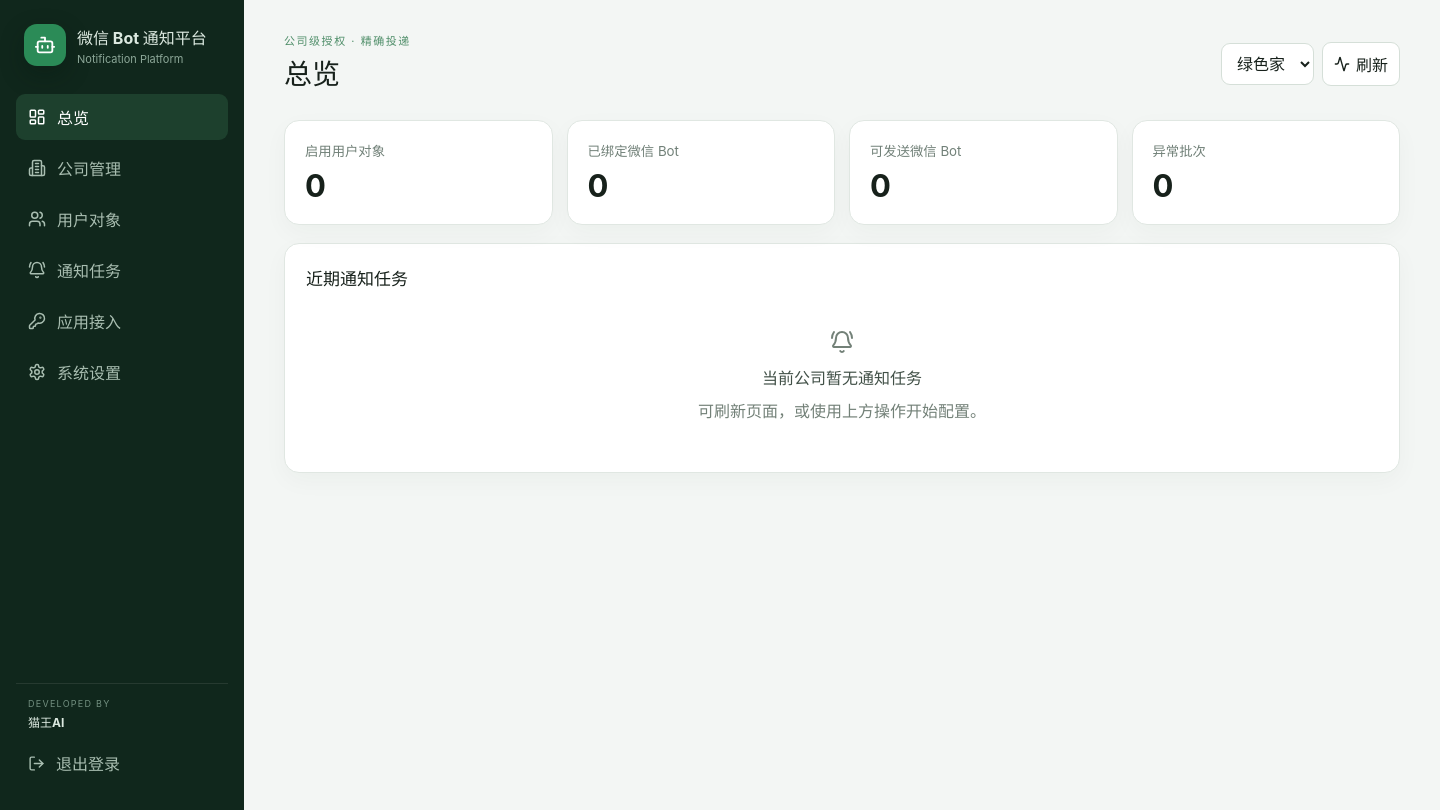
GeneralPlatformApp temporary workflow safety › keeps company-create success explicit when loading the new tenant fails
Click the button "公司管理". click: coordinates (122, 168)
box: [16,145,228,191]
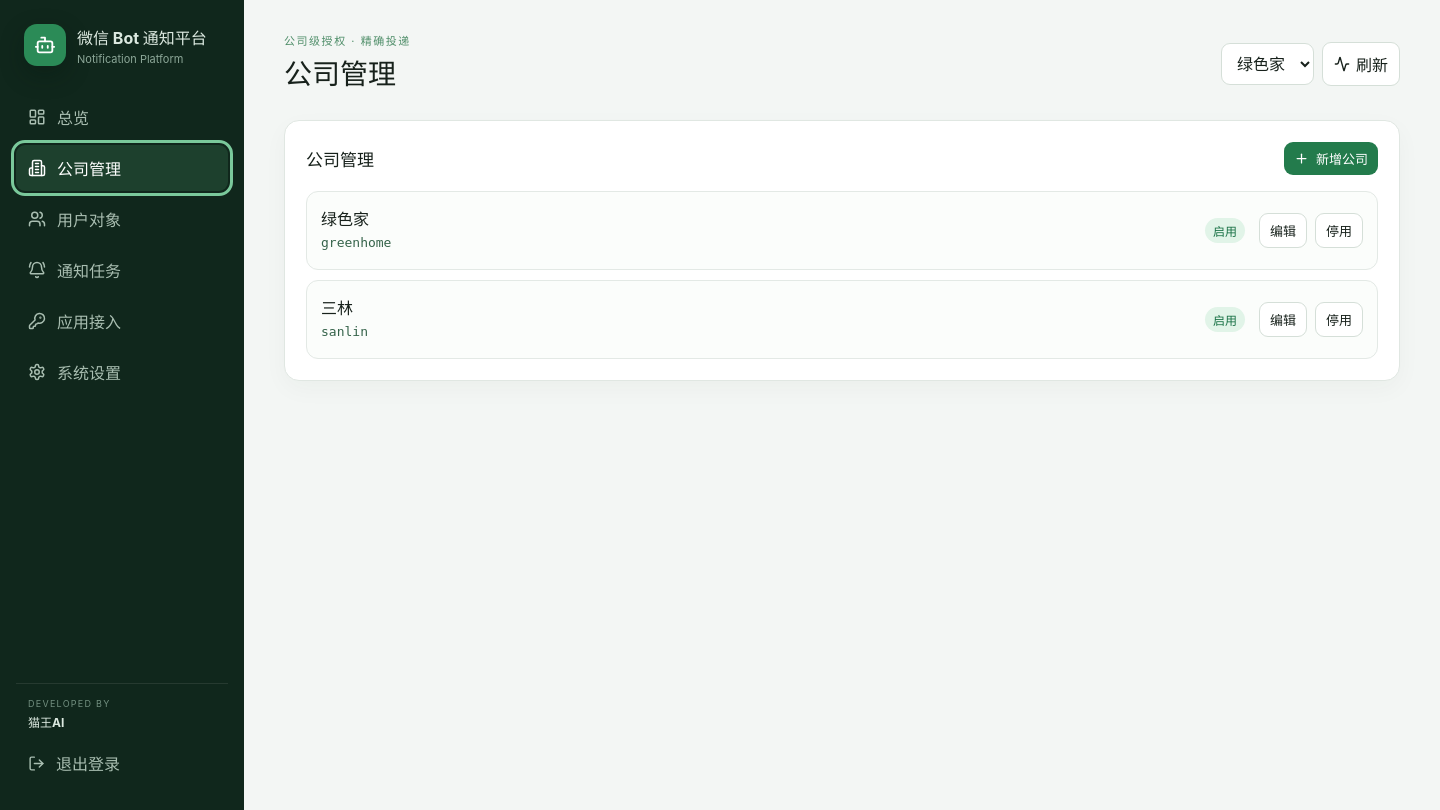
Click the button "新增公司". click: coordinates (1331, 158)
box: [1284,142,1378,175]
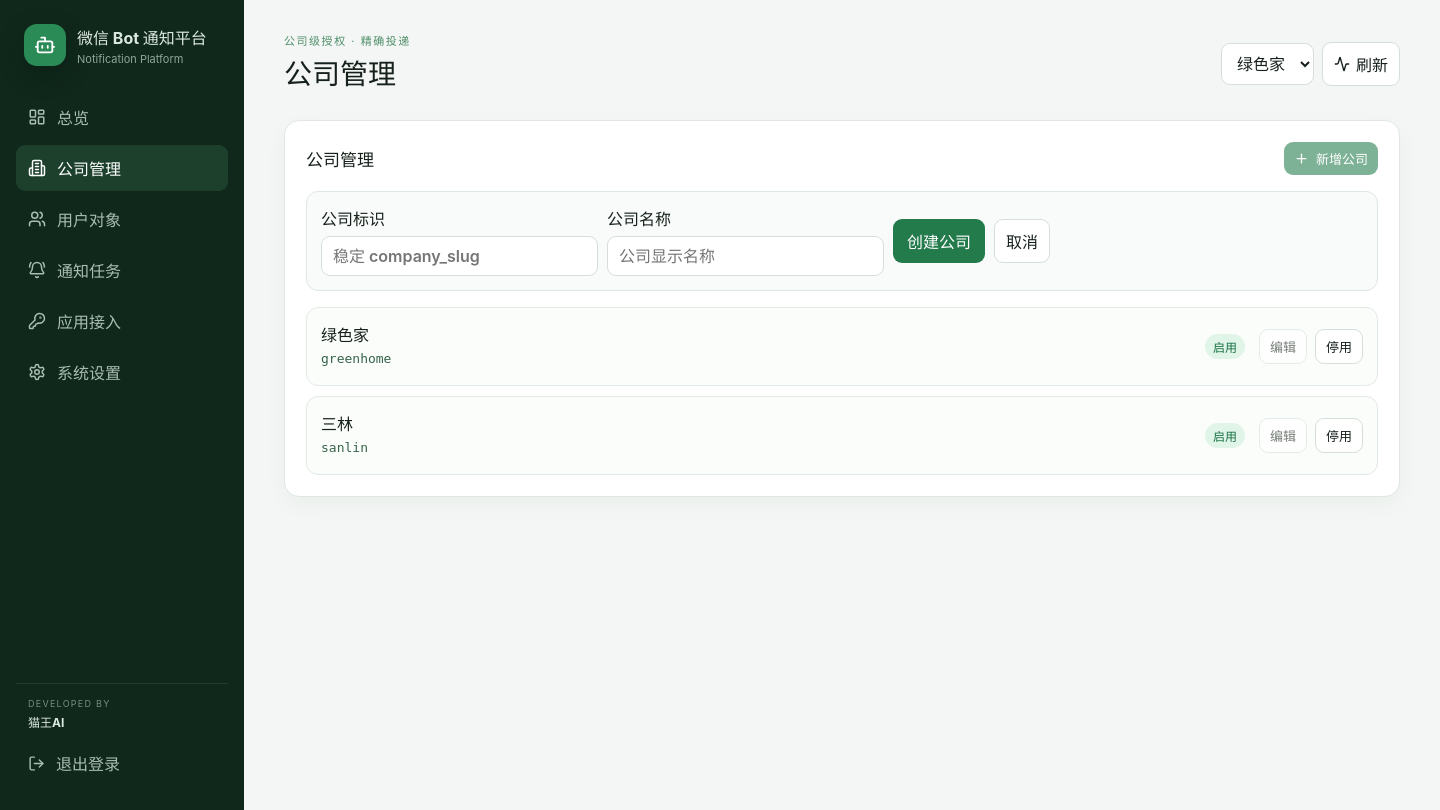
Type "refresh-fail-company" into the field labelled "公司标识". click: coordinates (460, 256)
box: [321,236,598,276]
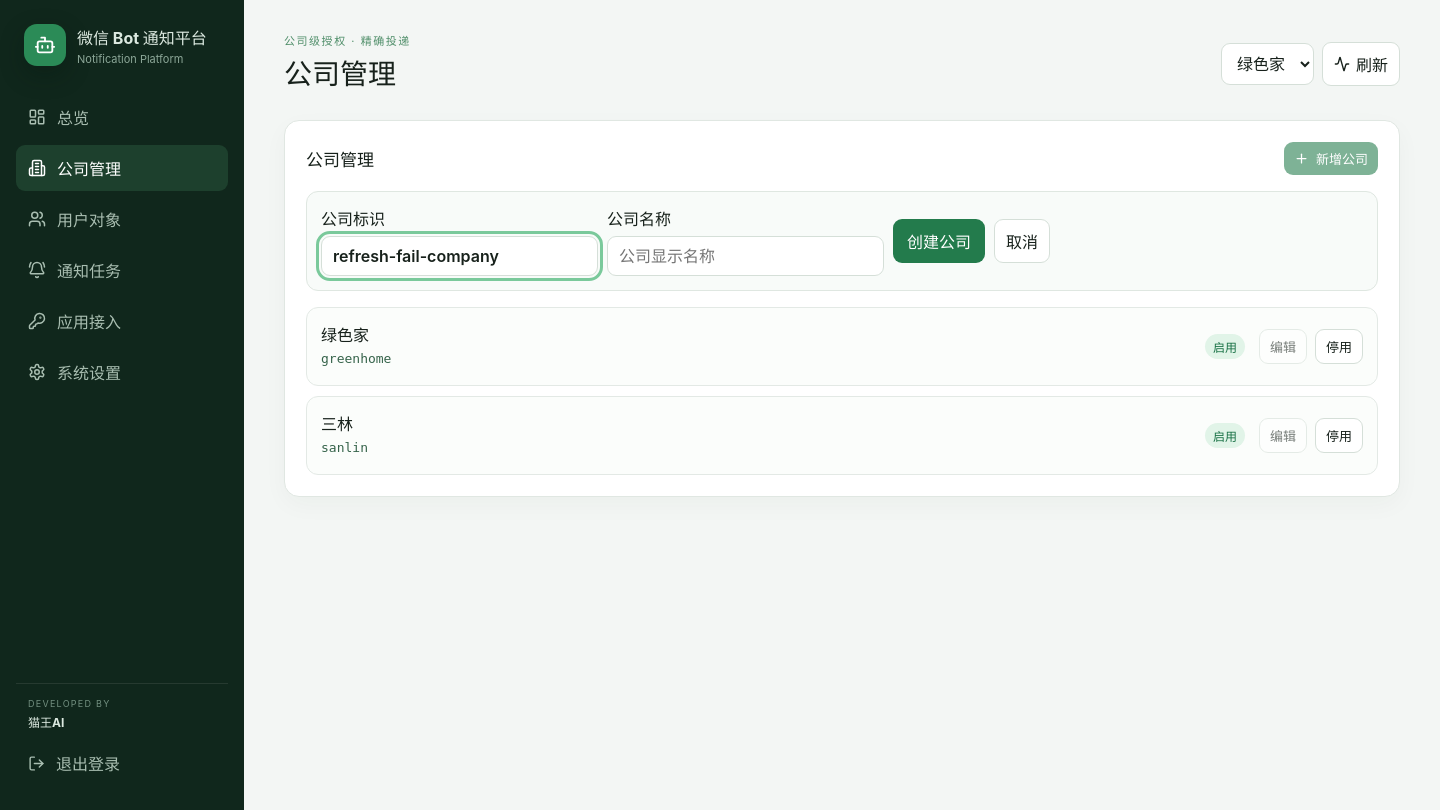
Type "已创建公司" into the field labelled "公司名称". click: coordinates (746, 256)
box: [607,236,884,276]
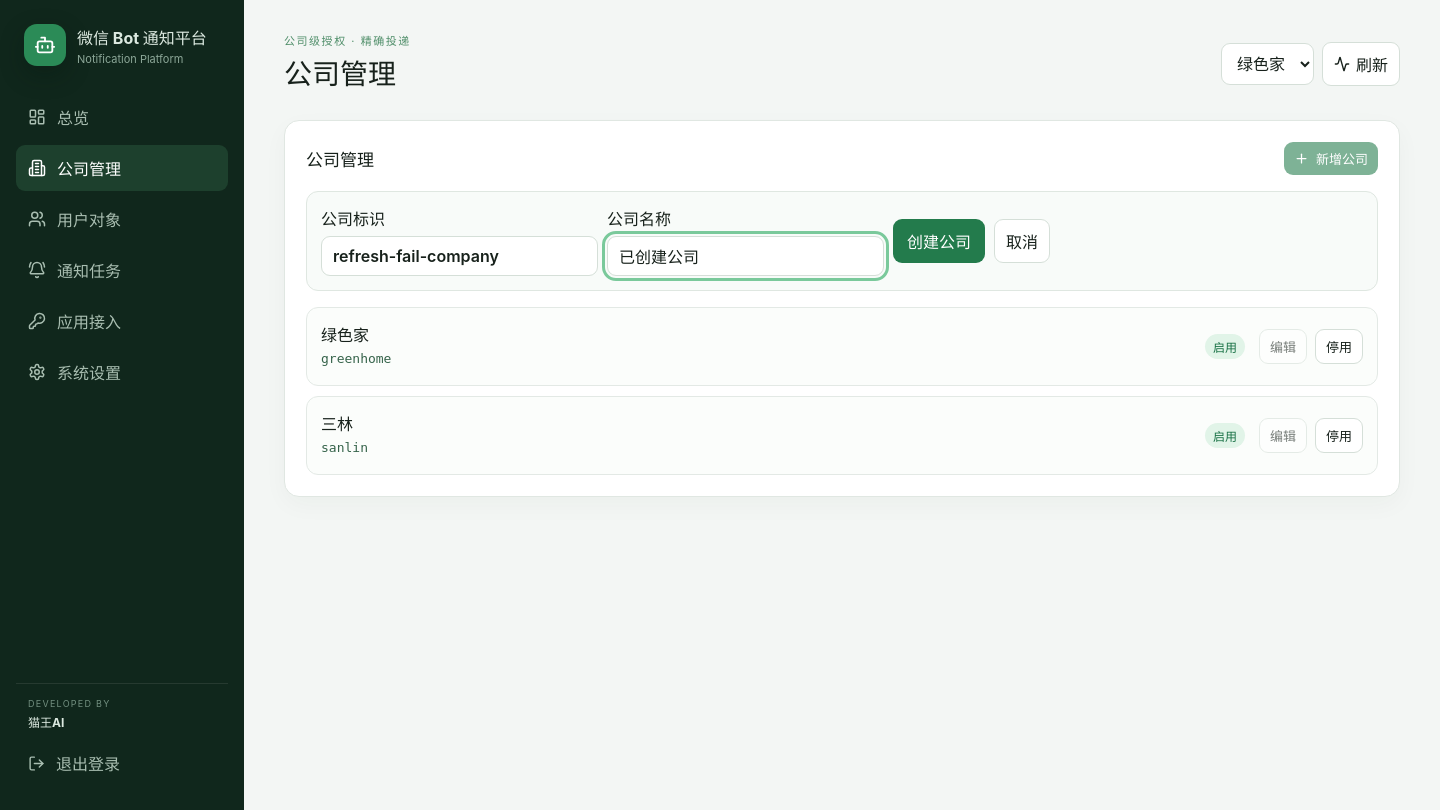
Click the button "创建公司". click: coordinates (939, 241)
box: [893,219,985,263]
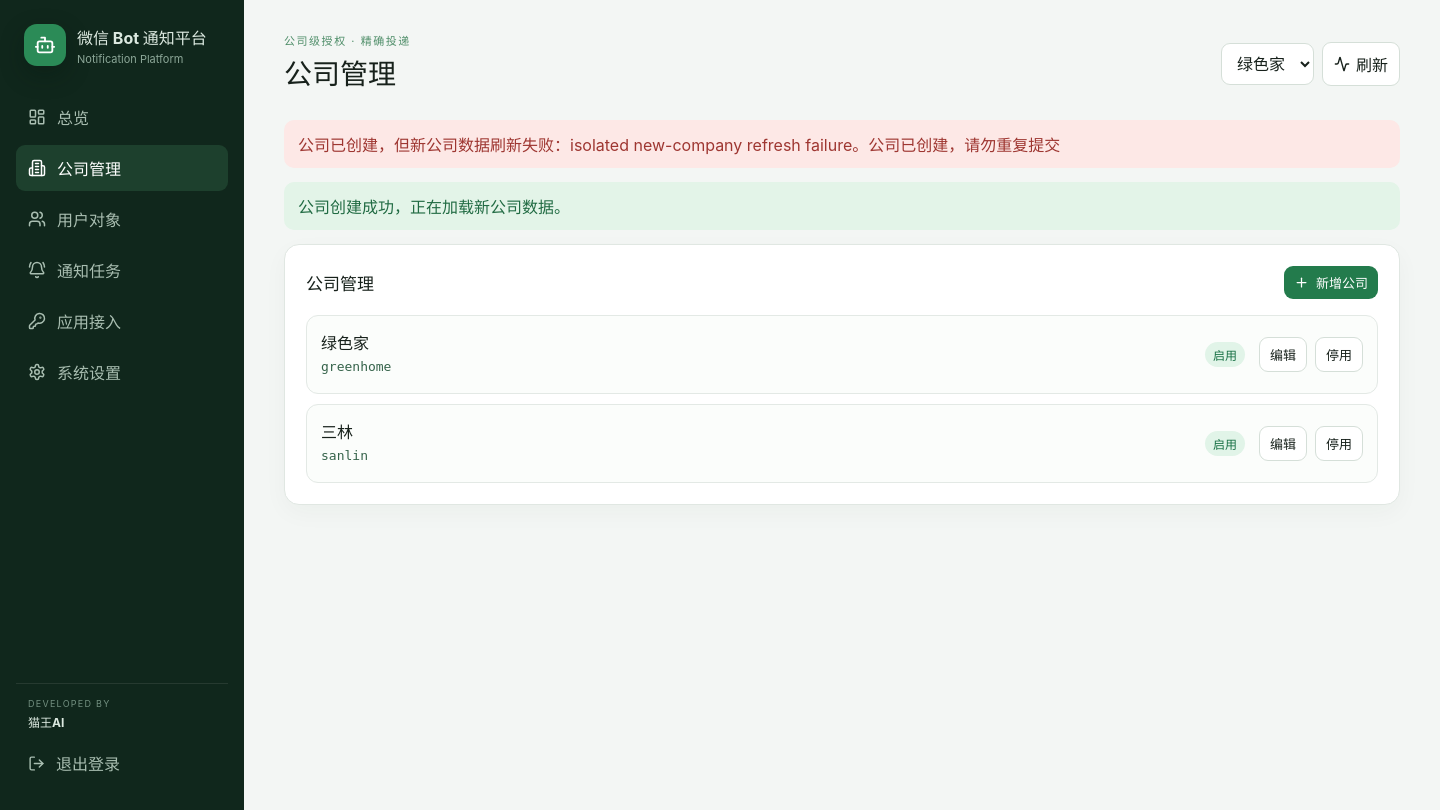
expect the message "公司创建成功，正在加载新公司数据。" is shown: met, box [284,182,1400,230]
expect the message "公司已创建，但新公司数据刷新失败：isolated new-company refresh failure。公司已创建，请勿重复提交" is shown: met, box [284,120,1400,168]
